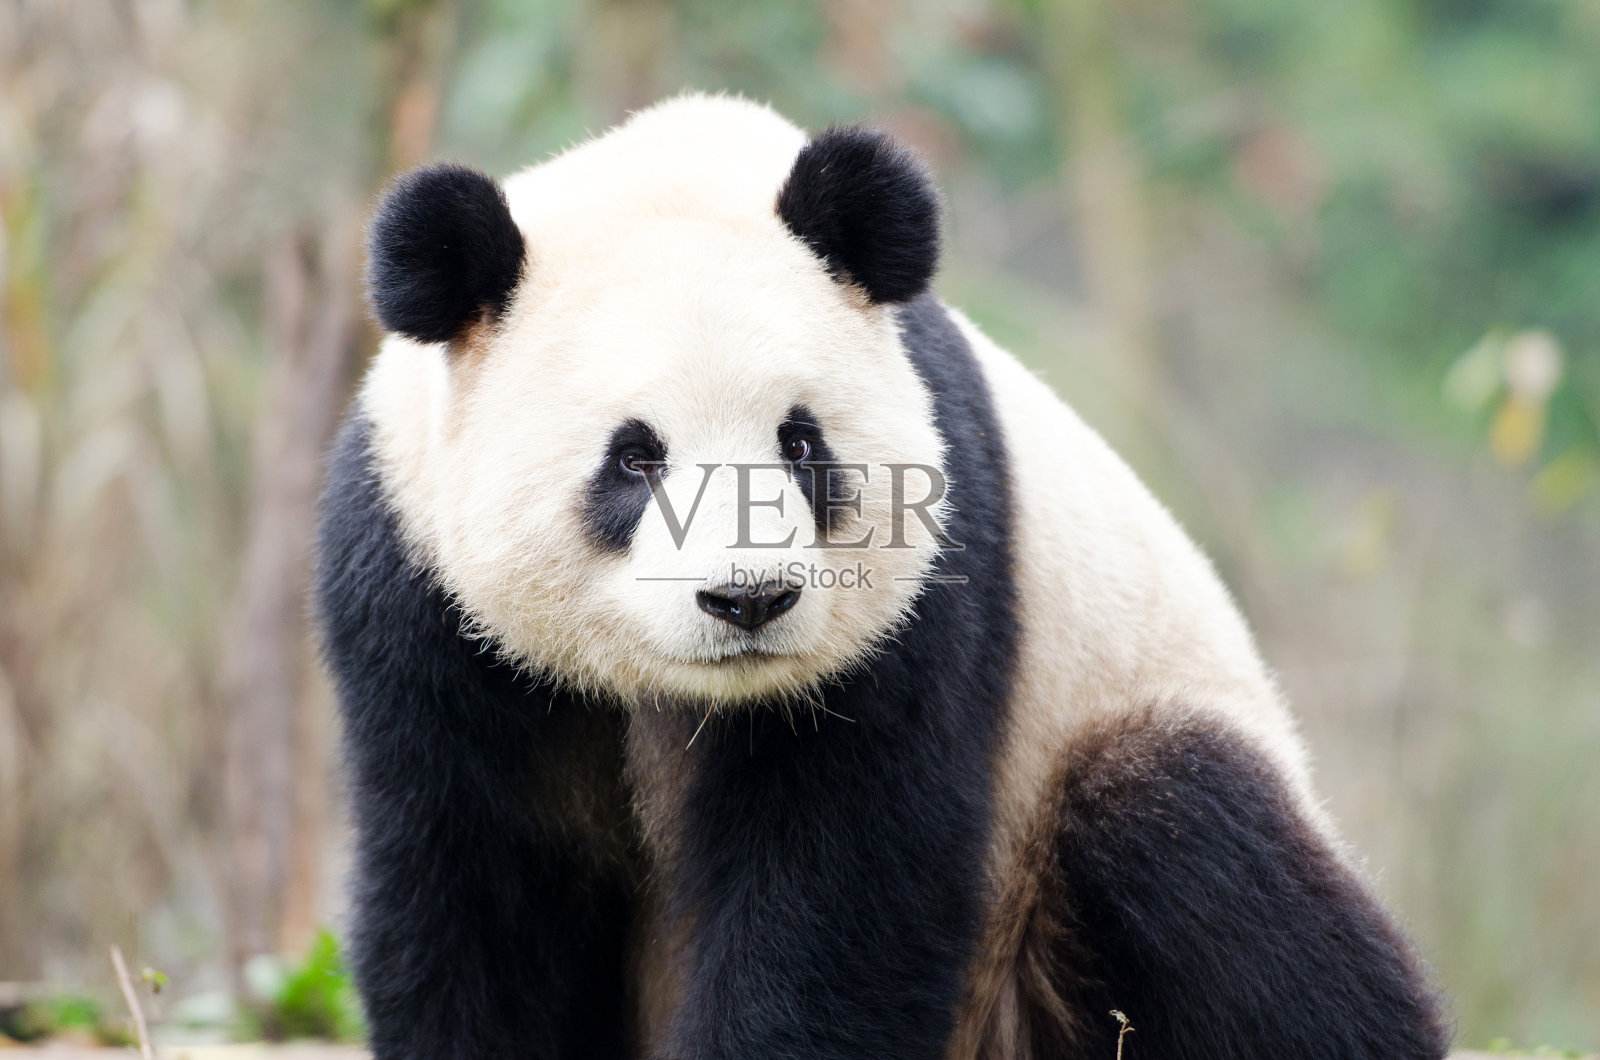panda: (189, 75, 1429, 1040)
